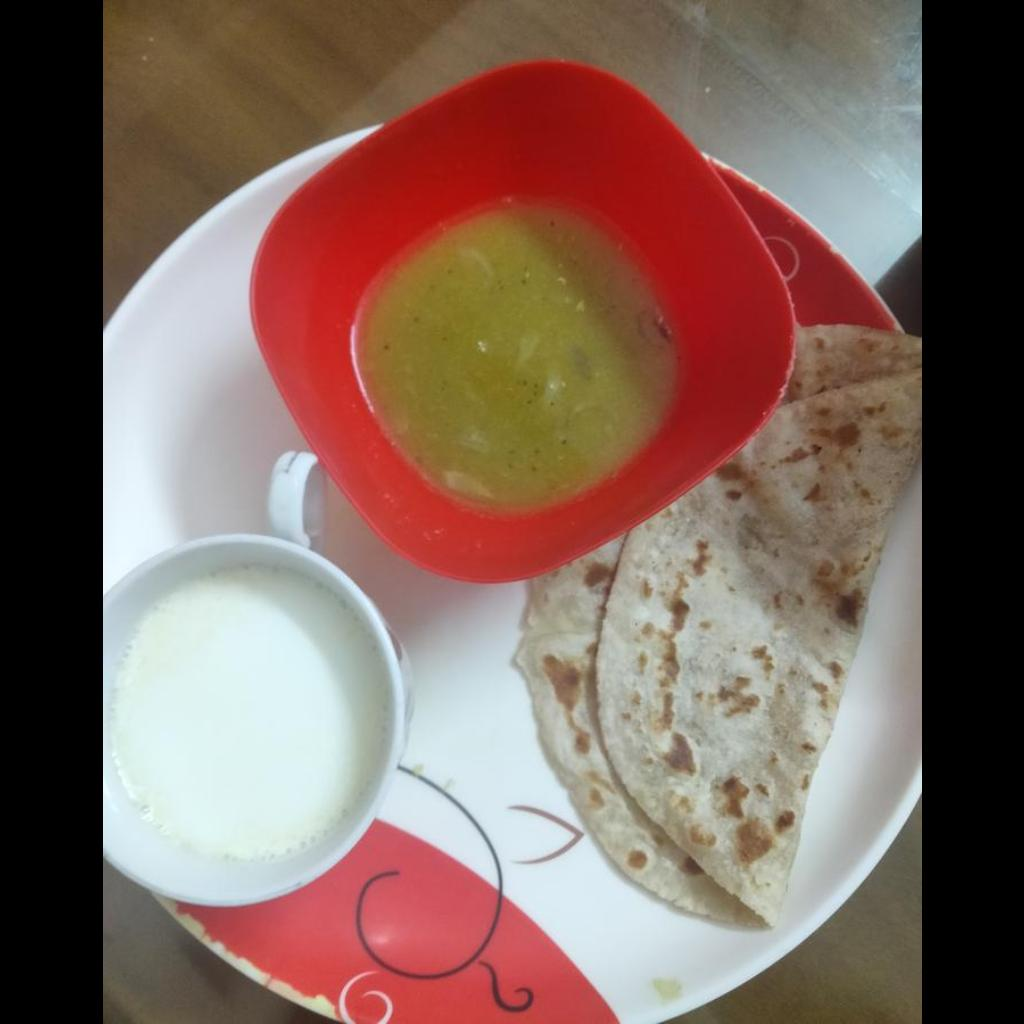daal: (355, 201, 672, 512)
milk: (102, 568, 376, 865)
ruti: (519, 322, 920, 930)
